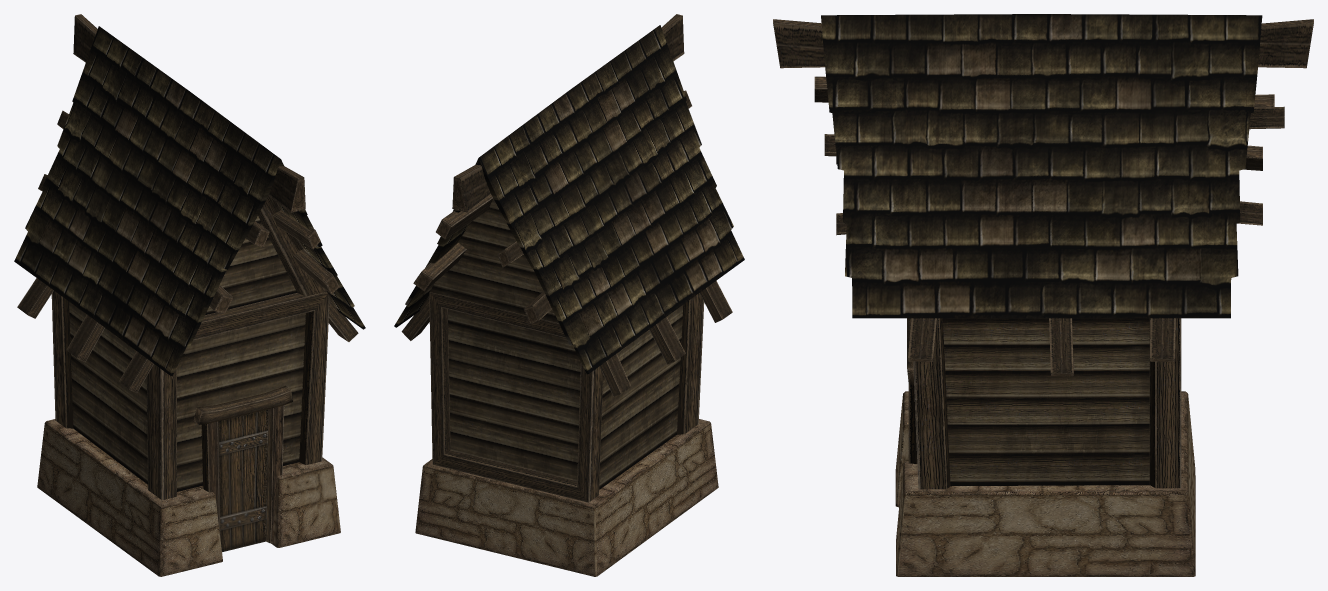
Rendered from House_Small_06.fbx.
3 views of the same model, side by side, from view 1: azimuth 30°, elevation 25°; view 2: azimuth 150°, elevation 25°; view 3: azimuth 270°, elevation 25° (orthographic). The views are drawn at different scales.
Parts seen in each view (by area): view 1: House_Small_06; view 2: House_Small_06; view 3: House_Small_06.
Part boxes in pixels (box(x1,y1,x2,y2)): House_Small_06: box(14, 14, 365, 576); House_Small_06: box(394, 14, 744, 576); House_Small_06: box(773, 14, 1313, 576).
Size of the model in its own units: 4.89 by 8.43 by 8.12.
